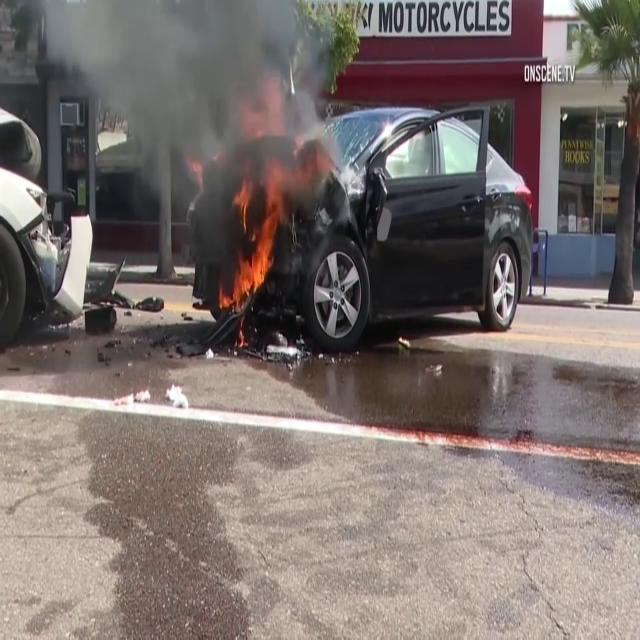Fire: (220, 221, 276, 314)
Smoke: (32, 0, 342, 210)
